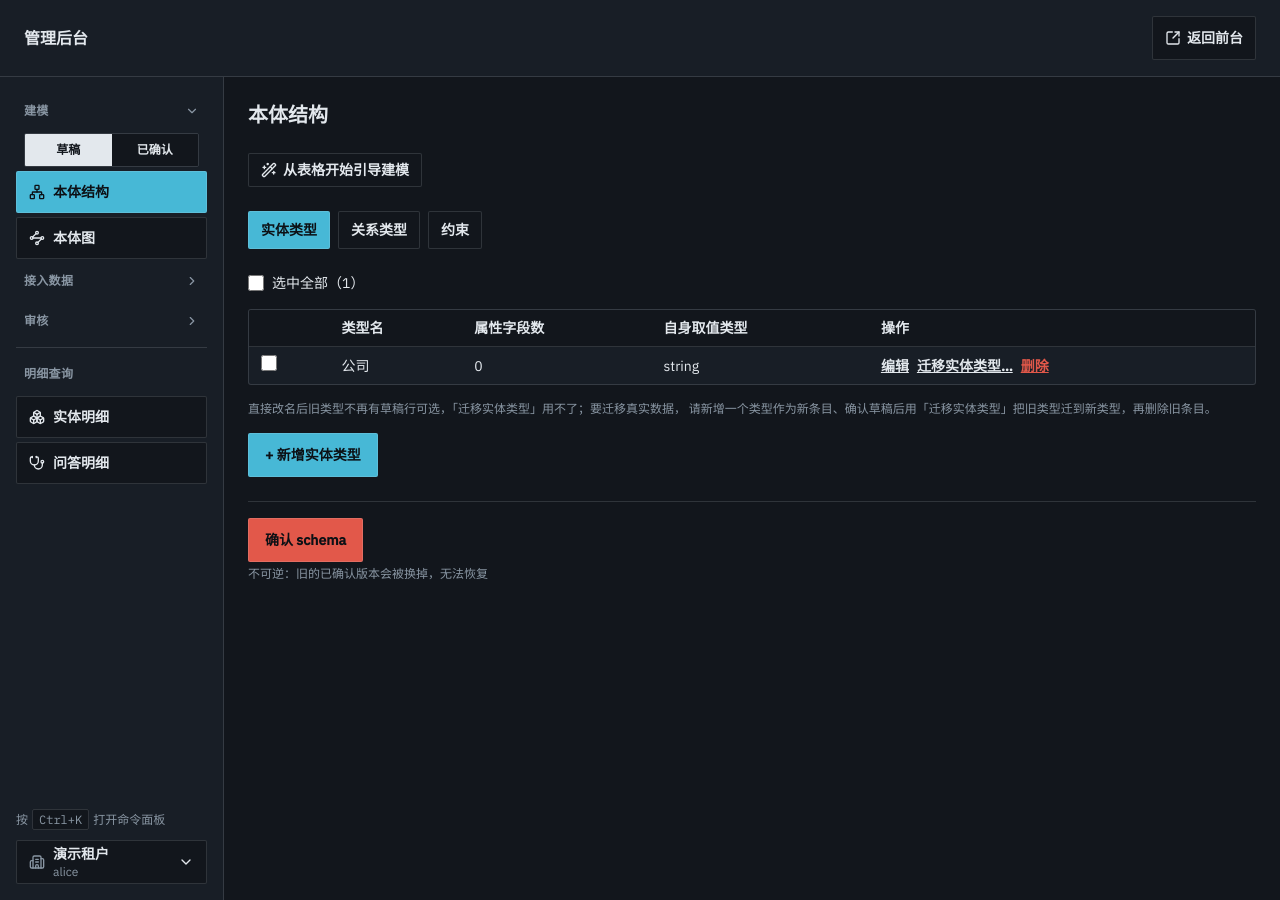
Test case: terms/summary 挂起时按钮要有反应 › summary 请求一直不返回时，按钮立刻变成"确认中…"并禁用
This screenshot has width=1280, height=900.
Click the button "确认 schema" at point(306, 540), box x1=248 y1=518 x2=363 y2=562
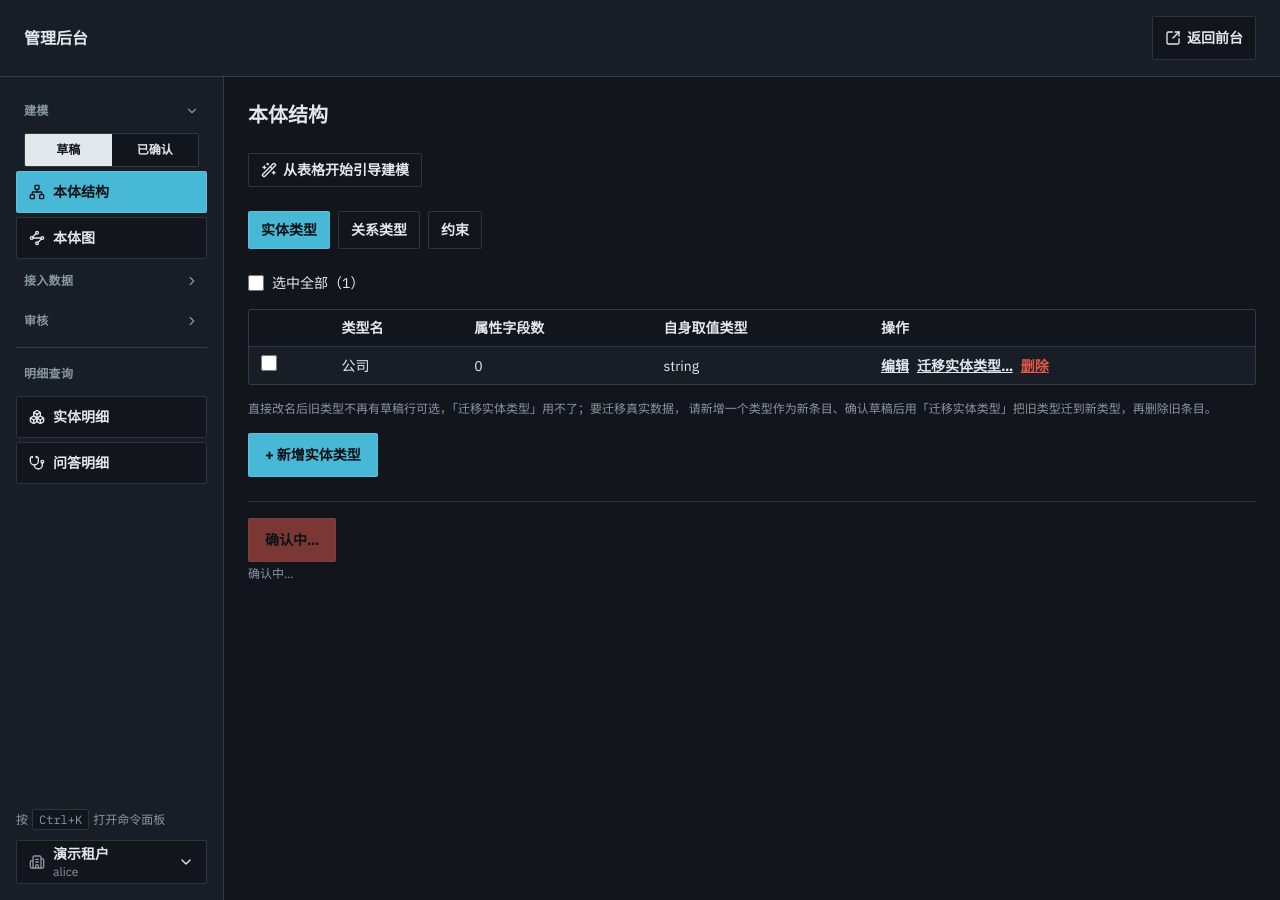
Check: the button named "确认 schema" shows "确认中", box x1=248 y1=518 x2=336 y2=562
Check: the button named "确认 schema" is disabled, box x1=248 y1=518 x2=336 y2=562
